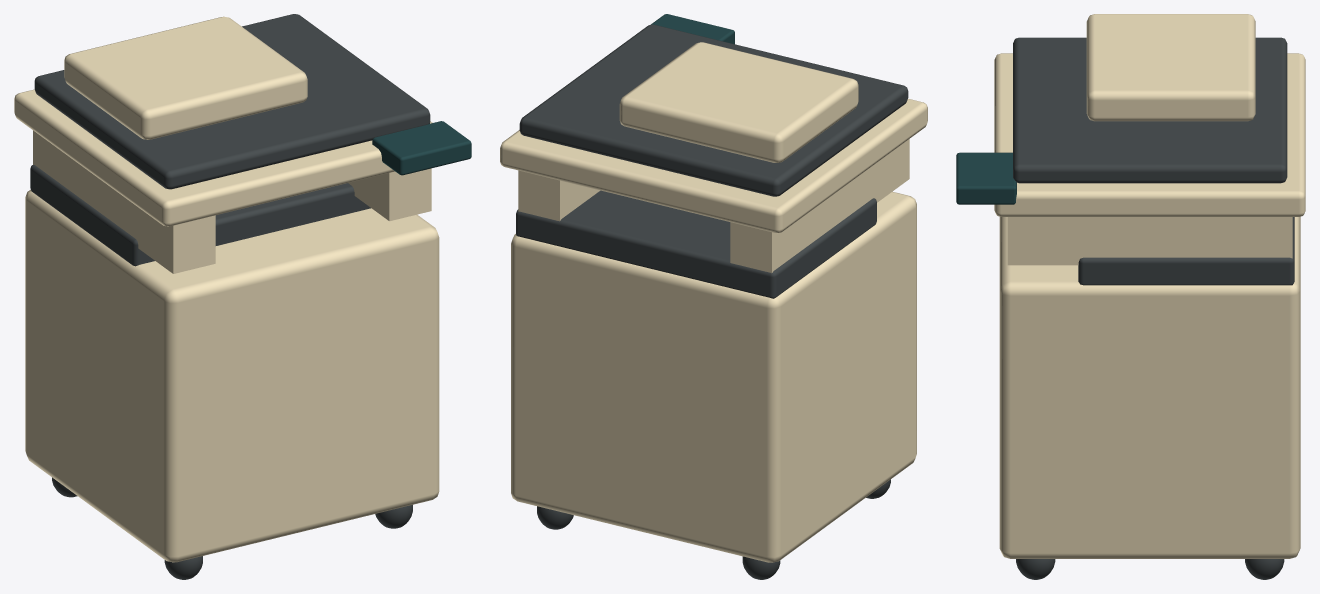
File: photocopier-53c9880dec7d.glb
3 views of the same model, side by side, from view 1: azimuth 30°, elevation 25°; view 2: azimuth 150°, elevation 25°; view 3: azimuth 270°, elevation 25° (orthographic). The views are drawn at different scales.
Parts seen in each view (by area): view 1: surface_ivory, surface_graphite, surface_deep; view 2: surface_ivory, surface_graphite, surface_deep; view 3: surface_ivory, surface_graphite, surface_deep.
Part boxes in pixels (x1=…): surface_ivory: x1=14, y1=16, x2=439, y2=562; surface_graphite: x1=30, y1=14, x2=430, y2=579; surface_deep: x1=372, y1=121, x2=471, y2=175; surface_ivory: x1=500, y1=42, x2=927, y2=562; surface_graphite: x1=516, y1=24, x2=908, y2=579; surface_deep: x1=650, y1=14, x2=734, y2=44; surface_ivory: x1=994, y1=14, x2=1305, y2=558; surface_graphite: x1=1013, y1=37, x2=1294, y2=579; surface_deep: x1=956, y1=152, x2=1016, y2=204.
Size of the model in its own units: 0.642 by 0.9545 by 0.6625.
